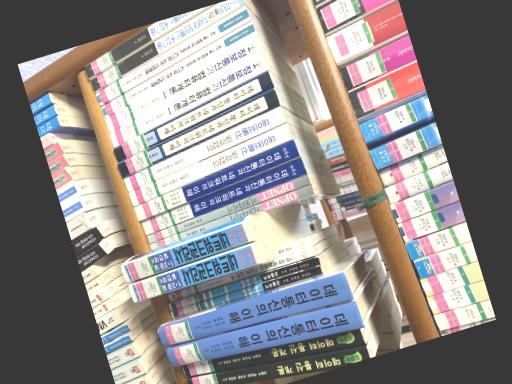book-spine: (95, 6, 249, 106), (105, 36, 261, 133), (108, 54, 268, 148), (100, 22, 255, 118), (156, 272, 353, 347), (112, 72, 273, 163), (115, 89, 279, 178), (90, 0, 244, 92), (123, 106, 285, 192), (127, 124, 291, 206), (133, 140, 299, 221), (164, 301, 364, 367), (140, 158, 306, 236), (146, 175, 310, 244), (149, 185, 313, 250), (82, 5, 211, 78), (180, 329, 365, 377), (167, 257, 319, 311), (170, 267, 321, 320), (127, 243, 260, 303), (120, 223, 252, 283), (167, 248, 313, 301), (184, 347, 370, 384), (273, 239, 312, 259)
